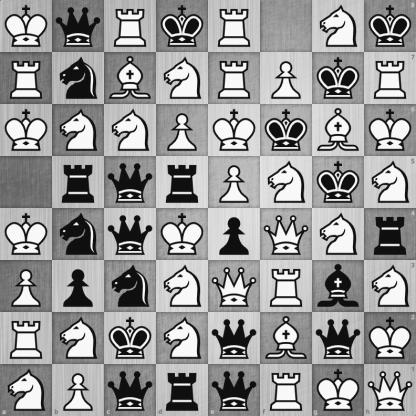B: (105, 53, 156, 104), (261, 313, 312, 364), (313, 105, 364, 156)
K: (312, 364, 364, 416), (364, 104, 416, 156), (364, 312, 416, 364), (1, 1, 52, 52), (1, 105, 52, 156), (1, 209, 52, 260), (157, 209, 208, 260), (209, 105, 260, 156)
N: (364, 156, 416, 209), (0, 364, 52, 416), (364, 260, 416, 312), (53, 105, 104, 156), (53, 313, 104, 364), (105, 105, 156, 156), (157, 53, 208, 104), (157, 261, 208, 312), (157, 313, 208, 364), (261, 157, 312, 208), (313, 1, 364, 52), (313, 209, 364, 260)
P: (52, 364, 104, 416), (1, 261, 52, 312), (157, 105, 208, 156), (209, 157, 260, 208), (261, 53, 312, 104)
Q: (364, 364, 416, 416), (209, 261, 260, 312), (261, 209, 312, 260)
R: (260, 364, 312, 416), (364, 52, 416, 104), (1, 53, 52, 104), (1, 313, 52, 364), (105, 1, 156, 52), (209, 1, 260, 52), (209, 53, 260, 104), (261, 261, 312, 312)
b: (313, 261, 364, 312)
board: (0, 0, 415, 415)
k: (364, 0, 416, 52), (105, 313, 156, 364), (157, 1, 208, 52), (261, 105, 312, 156), (313, 53, 364, 104), (313, 157, 364, 208)
n: (53, 53, 104, 104), (53, 209, 104, 260), (105, 261, 156, 312)
p: (53, 261, 104, 312), (209, 209, 260, 260)
q: (104, 364, 156, 416), (209, 364, 260, 416), (53, 1, 104, 52), (105, 157, 156, 208), (105, 209, 156, 260), (209, 313, 260, 364), (313, 313, 364, 364)
r: (156, 364, 209, 416), (364, 209, 416, 260), (53, 157, 104, 208), (157, 157, 208, 208)
